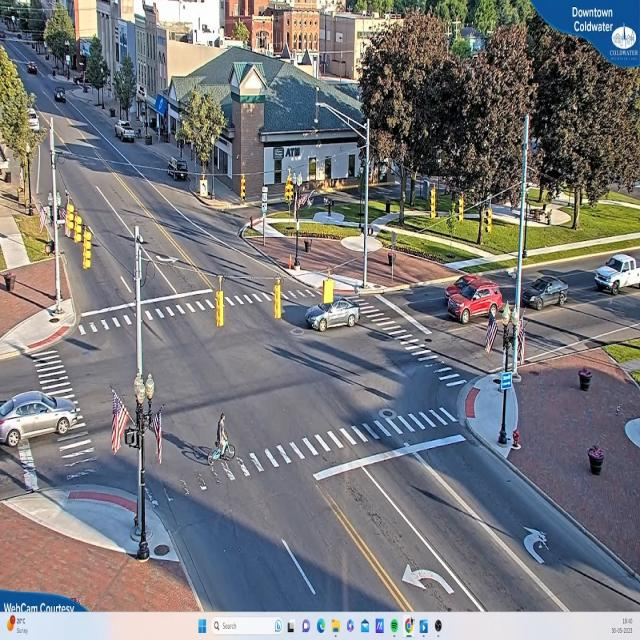bicycle: (205, 411, 232, 467)
car: (0, 389, 77, 444), (522, 272, 572, 312), (302, 298, 362, 330), (453, 285, 503, 322), (595, 255, 637, 293), (443, 273, 482, 297), (166, 159, 189, 180), (116, 122, 136, 143)
